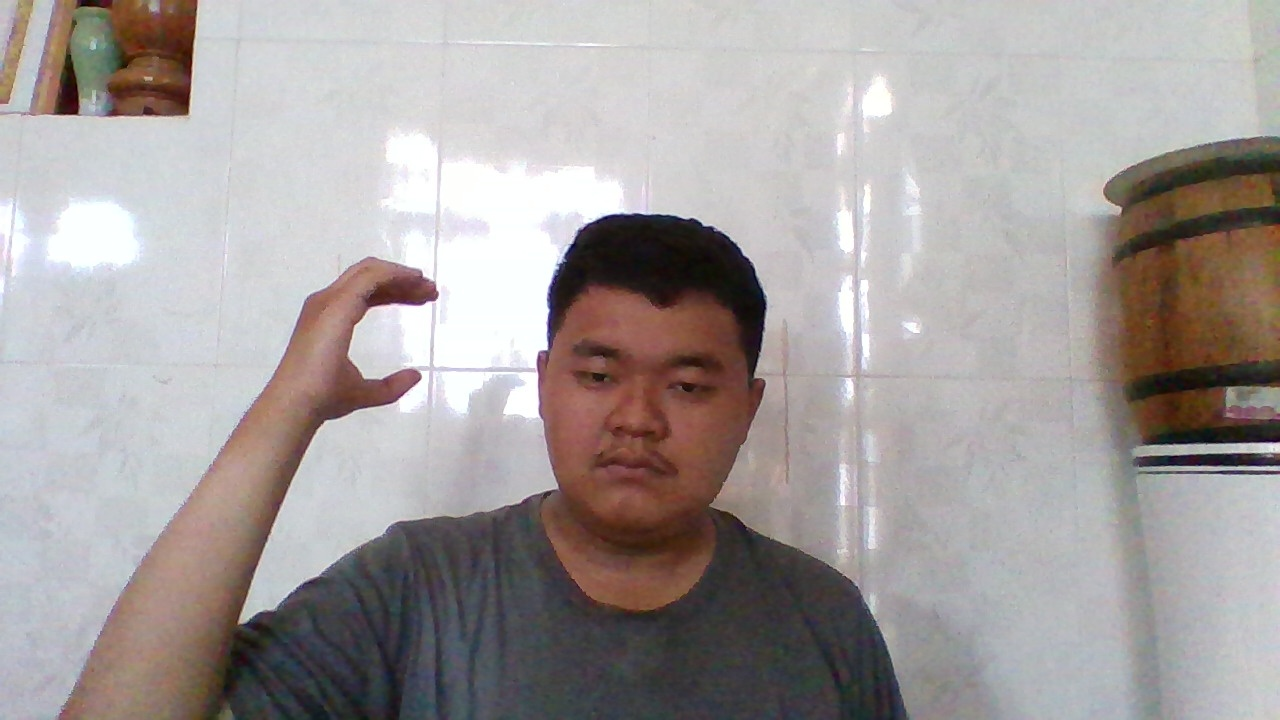C: (281, 254, 443, 425)
